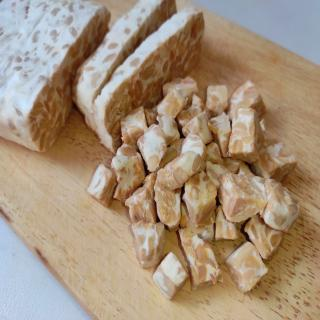Tempe: (180, 228, 223, 291), (218, 172, 269, 224), (225, 241, 269, 295), (260, 178, 301, 234), (228, 107, 262, 164), (157, 151, 203, 191), (153, 252, 190, 301), (132, 221, 166, 269), (88, 164, 117, 209)
